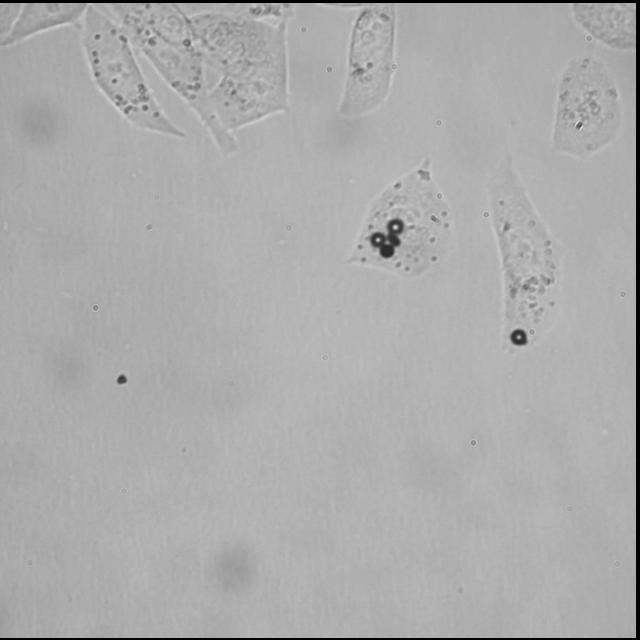microbeads: (510, 326, 532, 349), (386, 214, 410, 233), (370, 226, 390, 248)
